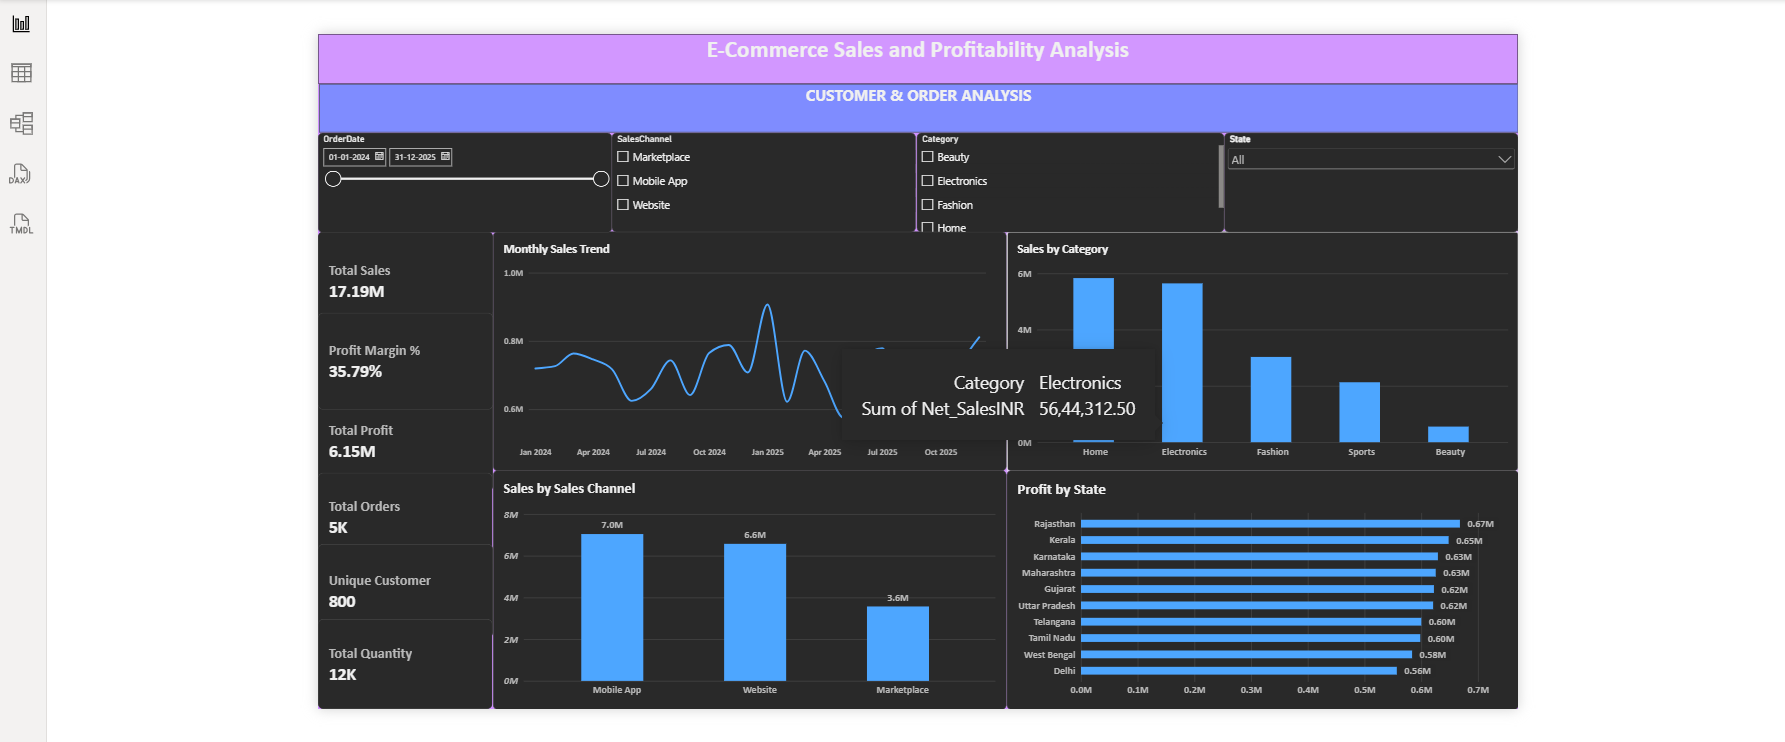

Layout of this report page (visuals, bound fields, positions):
{"tool":"powerbi","page":{"name":"Overall business performance.","canvas":[1920,1080],"ordinal":0},"visuals":[{"type":"cardVisual","fields":{"Data":["Orders_Messy_Raw.Total Sales"]},"box":[0,316.7,280,160],"z":0},{"type":"cardVisual","fields":{"Data":["Orders_Messy_Raw.Total Profit"]},"box":[0,571.9,280,160],"z":1},{"type":"cardVisual","fields":{"Data":["Orders_Messy_Raw.Total Orders"]},"box":[0,701.7,279.9,144.1],"z":2},{"type":"lineChart","title":"Monthly Sales Trend","fields":{"Category":["Orders_Messy_Raw.OrderDate.Variation.Date Hierarchy.Year","Orders_Messy_Raw.OrderDate.Variation.Date Hierarchy.Month"],"Y":["Sum(Orders_Messy_Raw.Net_SalesINR)"]},"box":[280.5,316.7,821.3,382.8],"z":5},{"type":"columnChart","title":"Sales by Category","fields":{"Category":["Products.Category"],"Y":["Sum(Orders_Messy_Raw.Net_SalesINR)"]},"box":[1102.1,316.7,819.2,382.8],"z":6},{"type":"columnChart","title":"Sales by Sales Channel","fields":{"Category":["Orders_Messy_Raw.SalesChannel"],"Y":["Sum(Orders_Messy_Raw.Net_SalesINR)"]},"box":[279.9,697.8,821.3,382.8],"z":7},{"type":"clusteredBarChart","title":"Profit by State","fields":{"Category":["Orders_Messy_Raw.State"],"Y":["Sum(Orders_Messy_Raw.ProfitINR)"]},"box":[1101.2,697.8,819.2,382.8],"z":8},{"type":"slicer","fields":{"Values":["Orders_Messy_Raw.OrderDate"]},"box":[0,157.4,470,160],"z":9},{"type":"slicer","fields":{"Values":["Products.Category"]},"box":[957.3,157.4,492.2,159.3],"z":10},{"type":"slicer","fields":{"Values":["Orders_Messy_Raw.State"]},"box":[1449.5,157.4,470.5,159.3],"z":11},{"type":"slicer","fields":{"Values":["Orders_Messy_Raw.SalesChannel"]},"box":[470.5,157.4,486.8,159.3],"z":12},{"type":"textbox","box":[0,0,1920.1,79.6],"z":13},{"type":"cardVisual","fields":{"Data":["Orders_Messy_Raw.Profit Margin %"]},"box":[0,446.5,280.5,155.6],"z":14},{"type":"cardVisual","fields":{"Data":["Orders_Messy_Raw.Unique Customer"]},"box":[0,815.6,280.5,150.2],"z":16},{"type":"textbox","box":[1.8,79.6,1918.2,77.8],"z":17},{"type":"cardVisual","fields":{"Data":["Orders_Messy_Raw.Total Quantity"]},"box":[0,935.6,279.9,144.1],"z":18}]}

Visuals, with their boxes on the page's 1920x1080 design canvas (x1, y1, x2, y2). These are canvas units, not pixel positions in the 1785x742 screenshot, which may show the page scaled, cropped or inside an application window:
cardVisual - Orders_Messy_Raw.Total Sales: {"x1": 0, "y1": 317, "x2": 280, "y2": 477}
cardVisual - Orders_Messy_Raw.Total Profit: {"x1": 0, "y1": 572, "x2": 280, "y2": 732}
cardVisual - Orders_Messy_Raw.Total Orders: {"x1": 0, "y1": 702, "x2": 280, "y2": 846}
"Monthly Sales Trend" lineChart: {"x1": 280, "y1": 317, "x2": 1102, "y2": 700}
"Sales by Category" columnChart: {"x1": 1102, "y1": 317, "x2": 1921, "y2": 700}
"Sales by Sales Channel" columnChart: {"x1": 280, "y1": 698, "x2": 1101, "y2": 1081}
"Profit by State" clusteredBarChart: {"x1": 1101, "y1": 698, "x2": 1920, "y2": 1081}
slicer - Orders_Messy_Raw.OrderDate: {"x1": 0, "y1": 157, "x2": 470, "y2": 317}
slicer - Products.Category: {"x1": 957, "y1": 157, "x2": 1450, "y2": 317}
slicer - Orders_Messy_Raw.State: {"x1": 1450, "y1": 157, "x2": 1920, "y2": 317}
slicer - Orders_Messy_Raw.SalesChannel: {"x1": 470, "y1": 157, "x2": 957, "y2": 317}
textbox: {"x1": 0, "y1": 0, "x2": 1920, "y2": 80}
cardVisual - Orders_Messy_Raw.Profit Margin %: {"x1": 0, "y1": 446, "x2": 280, "y2": 602}
cardVisual - Orders_Messy_Raw.Unique Customer: {"x1": 0, "y1": 816, "x2": 280, "y2": 966}
textbox: {"x1": 2, "y1": 80, "x2": 1920, "y2": 157}
cardVisual - Orders_Messy_Raw.Total Quantity: {"x1": 0, "y1": 936, "x2": 280, "y2": 1080}
